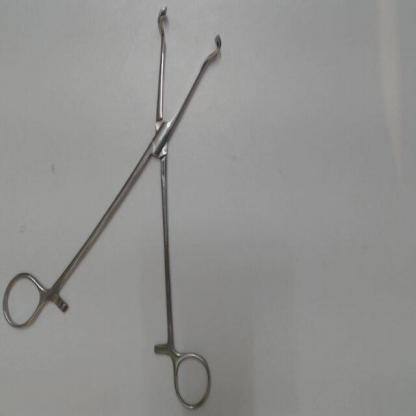8 Babcock Tissue Forceps: (1, 1, 235, 413)
